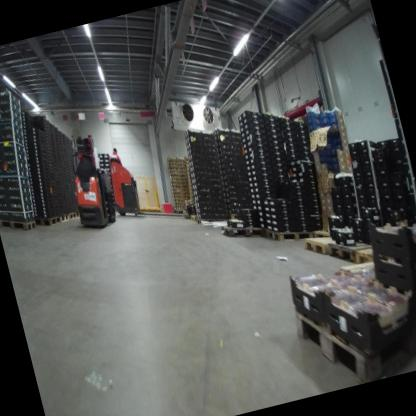pallet: (288, 273, 416, 391), (325, 230, 380, 273), (264, 215, 321, 253), (302, 223, 350, 263), (354, 238, 397, 274), (219, 215, 266, 247), (0, 202, 42, 236), (34, 207, 64, 230), (197, 211, 229, 231), (227, 210, 245, 222), (59, 210, 71, 224), (182, 212, 194, 226), (68, 208, 79, 221), (191, 213, 199, 222), (181, 208, 187, 216)
pallet_truck: (58, 133, 120, 234), (99, 132, 154, 228)
